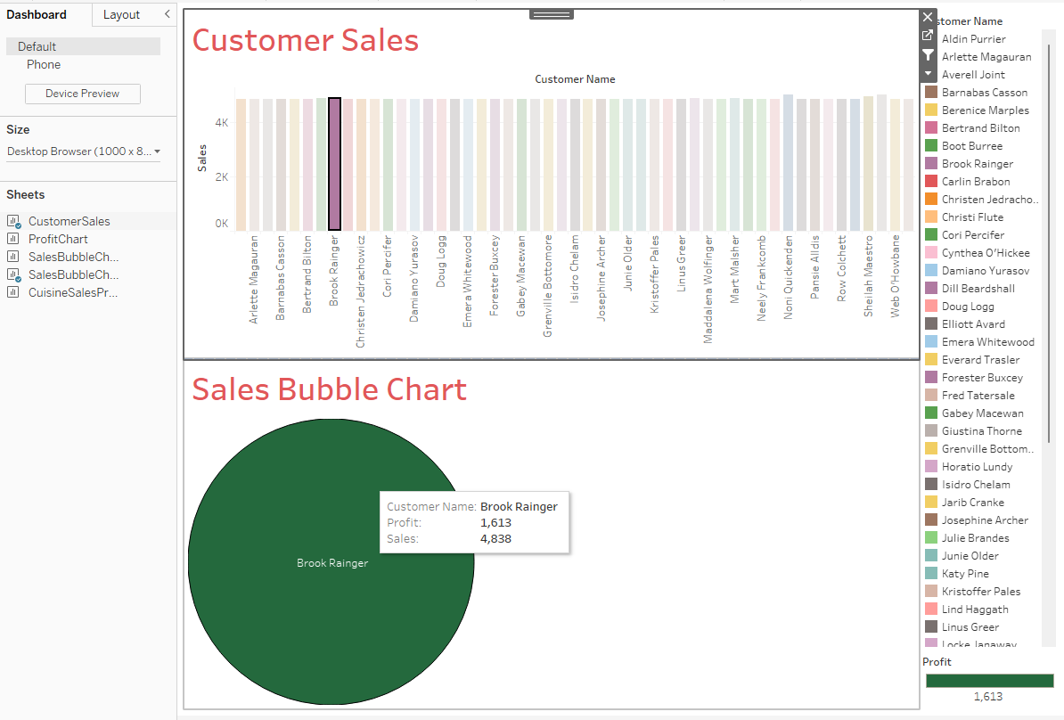

This screenshot's page, from the dashboard's own definition file:
{"tool":"tableau","page":{"name":"CustomerSalesDB","canvas":[1000,800],"ordinal":0},"visuals":[{"type":"worksheet","title":"CustomerSales","mark":"Automatic","rows":["Sales"],"cols":["Customer Name"],"box":[8,8,824,392]},{"type":"legend","title":"CustomerSales","param":"[federated.15frtbz1p31vmj169n7y4149jug2].[none:Customer Name:nk]","box":[832,8,160,719]},{"type":"worksheet","title":"SalesBubbleChart","mark":"Circle","box":[8,400,824,392]},{"type":"legend","title":"SalesBubbleChart","param":"[federated.15frtbz1p31vmj169n7y4149jug2].[sum:Calculation_509469754626453504:qk]","box":[832,727,160,65]}]}

Visuals, with their boxes in screenshot pixels (x1, y1, x2, y2):
"CustomerSales" worksheet: rect(184, 7, 916, 355)
"CustomerSales" legend: rect(916, 7, 1058, 646)
"SalesBubbleChart" worksheet (Circle marks): rect(184, 355, 916, 703)
"SalesBubbleChart" legend: rect(916, 646, 1058, 703)
